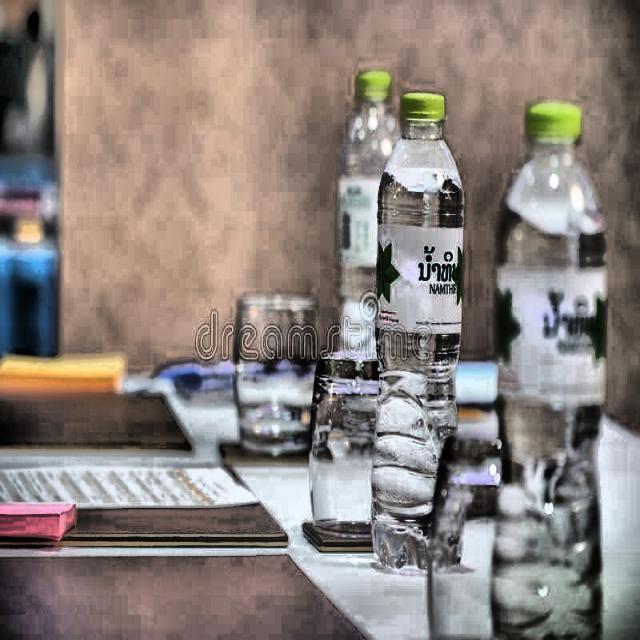Bottles: (364, 78, 471, 584)
